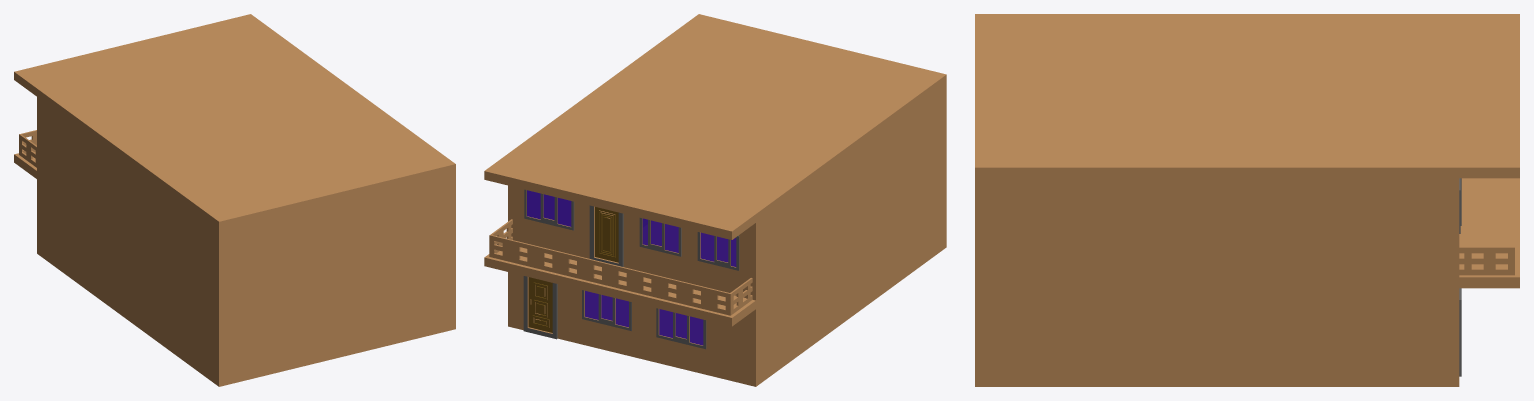
File: casa6.fbx
3 renders of one model, left to right at view 1: azimuth 30°, elevation 25°; view 2: azimuth 150°, elevation 25°; view 3: azimuth 270°, elevation 25°, orthographic. The views are drawn at different scales.
Parts seen in each view (by area): view 1: Cubo; view 2: Cubo; view 3: Cubo.
Boxes of the visible parts, left/top/right/bottom form: Cubo: left=14, top=14, right=455, bottom=386; Cubo: left=484, top=14, right=946, bottom=386; Cubo: left=975, top=14, right=1519, bottom=386.
Bounding box in the file's own units: 300 × 200 × 450.
